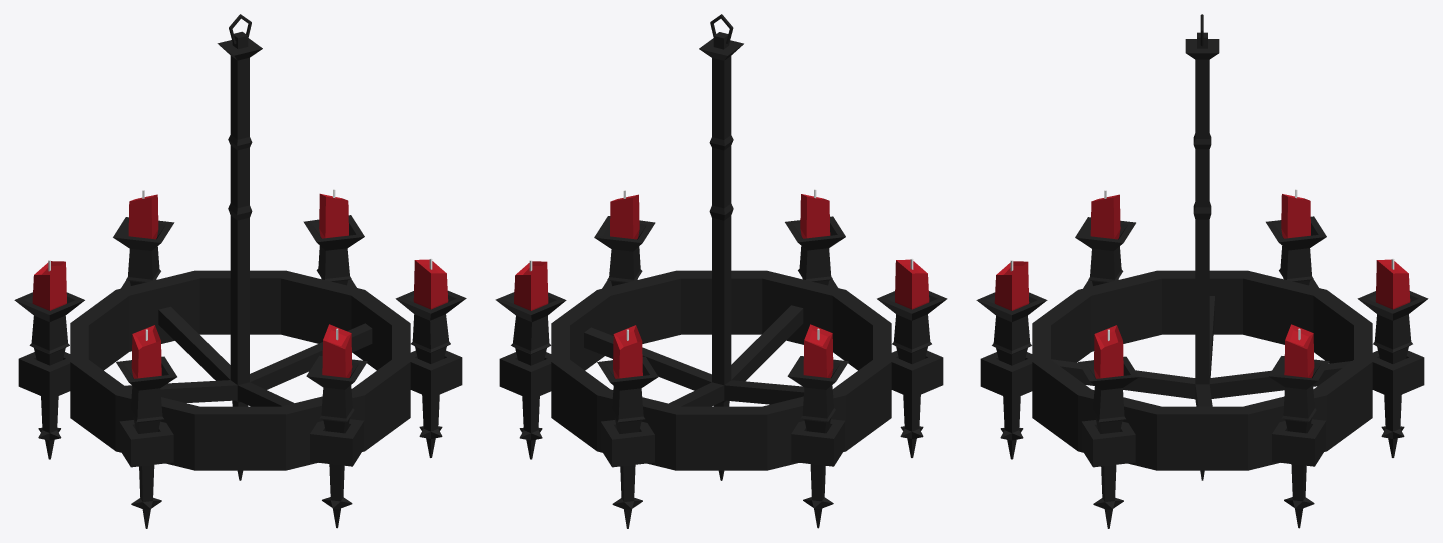
File: Chandelier_v2.fbx
The picture shows the model from 3 angles, left to right: view 1: azimuth 30°, elevation 25°; view 2: azimuth 150°, elevation 25°; view 3: azimuth 270°, elevation 25°; orthographic projection.
Parts seen in each view (by area): view 1: Chandelier; view 2: Chandelier; view 3: Chandelier.
Boxes of the visible parts, x1,y1,x2,y2 form: Chandelier: (14, 14, 466, 528); Chandelier: (495, 14, 947, 528); Chandelier: (976, 14, 1428, 528).
Size of the model in its own units: 118 by 155 by 136.
